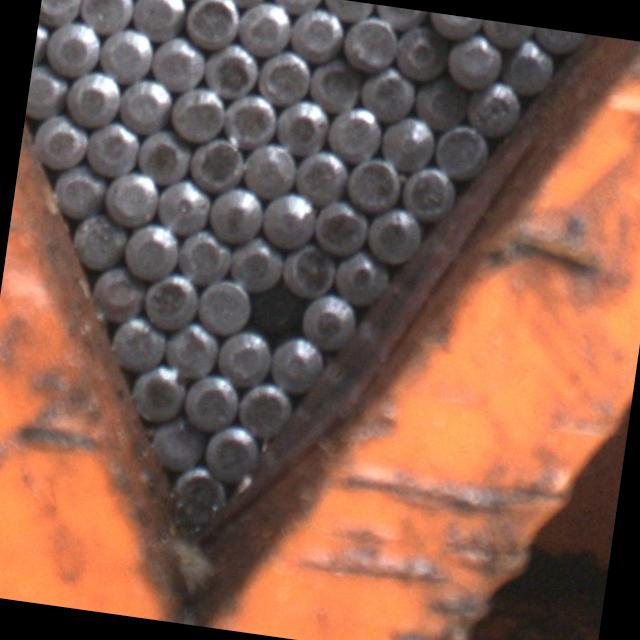tool: (363, 204, 428, 266), (168, 80, 228, 142), (465, 78, 525, 140), (64, 67, 124, 128), (500, 36, 560, 97), (236, 376, 297, 436), (127, 360, 188, 420), (343, 153, 402, 215), (340, 12, 400, 72), (444, 30, 504, 90), (238, 138, 298, 198), (140, 268, 200, 328), (222, 88, 280, 150), (432, 120, 491, 180), (184, 370, 243, 430), (102, 167, 161, 226), (215, 325, 273, 385), (400, 162, 460, 220), (311, 197, 369, 257), (186, 134, 244, 194), (298, 288, 358, 346), (272, 92, 330, 152), (378, 110, 438, 168), (68, 210, 128, 268), (97, 24, 155, 83), (44, 18, 103, 76), (122, 219, 180, 278), (359, 64, 418, 122), (205, 38, 264, 96), (134, 125, 193, 183), (206, 182, 265, 240), (48, 162, 107, 220), (107, 313, 165, 372), (200, 421, 260, 478), (330, 248, 391, 304), (256, 47, 314, 105), (116, 75, 174, 133), (150, 34, 208, 92), (392, 21, 449, 80), (325, 102, 382, 161), (259, 188, 316, 247), (196, 274, 253, 333), (30, 114, 90, 170), (268, 331, 324, 391), (287, 2, 344, 60), (155, 176, 212, 234), (411, 73, 468, 131), (162, 320, 219, 378), (147, 416, 205, 473), (84, 118, 140, 176), (306, 55, 362, 113), (174, 226, 232, 282), (228, 234, 284, 292), (292, 145, 348, 202), (235, 0, 293, 55), (277, 242, 333, 298), (90, 262, 146, 317), (247, 283, 302, 337), (183, 0, 243, 49), (26, 64, 68, 120), (130, 0, 187, 39), (77, 0, 134, 34), (39, 0, 85, 25)
